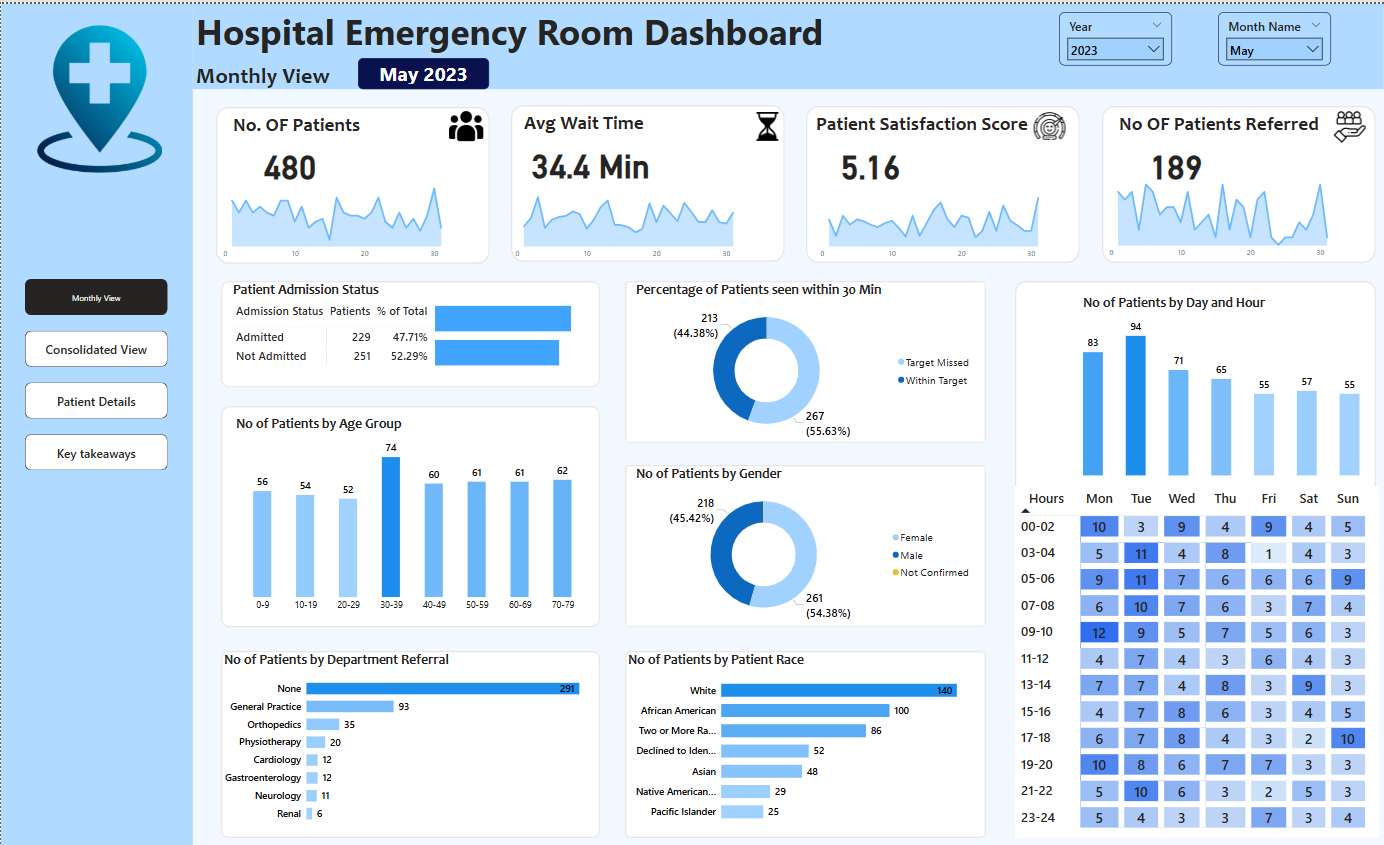

The dashboard page shown, as its layout file describes it:
{"tool":"powerbi","page":{"name":"Monthly View","canvas":[2300,1400],"ordinal":0},"visuals":[{"type":"shape","box":[0,0,319.2,1400],"z":0},{"type":"shape","box":[319.8,0,1980.2,141.6],"z":1000},{"type":"textbox","box":[319.8,0,1092.3,89.1],"z":2000},{"type":"shape","box":[357.1,171.4,455,260.7],"z":3000},{"type":"textbox","box":[319.8,89.1,255.2,69.9],"z":4000},{"type":"card","fields":{"Values":["Hospital ER_Data.No of Patients"]},"box":[385.7,212.5,189.3,103.6],"z":5000},{"type":"slicer","fields":{"Values":["Date Table.Year"]},"box":[1758.9,12.5,187.5,89.3],"z":6000},{"type":"slicer","fields":{"Values":["Date Table.Month Name"]},"box":[2023.2,12.5,187.5,89.3],"z":7000},{"type":"textbox","box":[380.4,176.8,235.7,51.8],"z":8000},{"type":"areaChart","fields":{"Category":["Date Table.Date.Variation.Date Hierarchy.Day"],"Y":["Hospital ER_Data.No of Patients"]},"box":[357.1,287.5,435.7,144.6],"z":9000},{"type":"card","fields":{"Values":["Min(Date Table.Month & Year)"]},"box":[592.9,89.3,217.9,51.8],"z":10000},{"type":"shape","box":[848.1,167.1,455,260.7],"z":11000},{"type":"card","fields":{"Values":["Hospital ER_Data.Avg Wait Time"]},"box":[871.4,225,217.9,76.8],"z":12000},{"type":"textbox","box":[865.4,172.5,235.7,51.8],"z":13000},{"type":"shape","box":[366.1,460.7,630,177],"z":14000},{"type":"shape","box":[1339,170,455,260.7],"z":15000},{"type":"card","fields":{"Values":["Hospital ER_Data.Satisfaction Score"]},"box":[1350,212.5,189.3,103.6],"z":16000},{"type":"textbox","box":[1350,175,408.9,51.8],"z":17000},{"type":"shape","box":[1830,169.3,455,260.7],"z":18000},{"type":"card","fields":{"Values":["Hospital ER_Data.No of Patients Referred"]},"box":[1858.9,212.5,189.3,103.6],"z":19000},{"type":"textbox","box":[1853.6,175,389.3,51.8],"z":20000},{"type":"areaChart","fields":{"Category":["Date Table.Date.Variation.Date Hierarchy.Day"],"Y":["Hospital ER_Data.No of Patients Referred"]},"box":[1830.4,285.7,435.7,144.6],"z":21000},{"type":"areaChart","fields":{"Category":["Date Table.Date.Variation.Date Hierarchy.Day"],"Y":["Hospital ER_Data.Satisfaction Score"]},"box":[1350,287.5,435.7,144.6],"z":22000},{"type":"areaChart","fields":{"Category":["Date Table.Date.Variation.Date Hierarchy.Day"],"Y":["Avg(Hospital ER_Data.Patient Waittime)"]},"box":[842.9,287.5,435.7,144.6],"z":23000},{"type":"pivotTable","title":"Patient Admission Status","fields":{"Rows":["Hospital ER_Data.Admission Status"],"Values":["Hospital ER_Data.No of Patients1","Hospital ER_Data.No of Patients"]},"box":[380.8,460.6,615.2,177.9],"z":24000},{"type":"barChart","fields":{"Category":["Hospital ER_Data.Admission Status"],"Y":["Hospital ER_Data.No of Patients"]},"box":[716.1,460.7,280.4,176.8],"z":25000},{"type":"shape","box":[366,668,630,368],"z":26000},{"type":"shape","box":[365.8,1075.8,630.2,310.9],"z":27000},{"type":"clusteredColumnChart","fields":{"Y":["Hospital ER_Data.No of Patients"],"Category":["Hospital ER_Data.Age Group"]},"box":[385,683.3,598.3,336.7],"z":28000},{"type":"clusteredBarChart","fields":{"Category":["Hospital ER_Data.Department Referral"],"Y":["Hospital ER_Data.No of Patients"]},"box":[365.8,1075.8,631.8,297.6],"z":29000},{"type":"shape","box":[1037.5,460.6,600.2,269.4],"z":30000},{"type":"donutChart","title":"Percentage of Patients seen within 30 Min","fields":{"Category":["Hospital ER_Data.Wait Time Status"],"Y":["Hospital ER_Data.No of Patients"]},"box":[1050.8,460.6,573.6,269.4],"z":31000},{"type":"shape","box":[1037.5,766.5,600.2,269.4],"z":32000},{"type":"donutChart","title":"No of Patients by Gender","fields":{"Category":["Hospital ER_Data.Patient Gender"],"Y":["Hospital ER_Data.No of Patients"]},"box":[1050.8,766.5,573.6,269.4],"z":33000},{"type":"shape","box":[1037.5,1075.8,600.2,310.9],"z":34000},{"type":"clusteredBarChart","fields":{"Y":["Hospital ER_Data.No of Patients"],"Category":["Hospital ER_Data.Patient Race"]},"box":[1037.5,1075.8,586.9,297.6],"z":35000},{"type":"shape","box":[1686,460.6,600.2,926.1],"z":36000},{"type":"pivotTable","fields":{"Rows":["Hospital ER_Data.Waittime Interval"],"Columns":["Date Table.Day Name"],"Values":["Hospital ER_Data.No of Patients"]},"box":[1686,801.4,605.2,585.3],"z":37000},{"type":"columnChart","title":"No of Patients by Day and Hour","fields":{"Category":["Date Table.Day Name"],"Y":["Hospital ER_Data.No of Patients"]},"box":[1794.1,482.2,472.2,307.6],"z":38000},{"type":"image","box":[33.3,29.9,261,256.1],"z":39000},{"type":"image","box":[734.9,169.6,76.5,66.5],"z":40000},{"type":"image","box":[1245.4,169.6,58.2,68.2],"z":41000},{"type":"image","box":[1701,171.3,84.8,63.2],"z":42000},{"type":"image","box":[2208.1,172.9,68.2,63.2],"z":43000},{"type":"pageNavigator","box":[39.9,457.2,237.8,320.9],"z":44000}]}

Visuals, with their boxes in screenshot pixels (x1, y1, x2, y2), scaled from the page's 2300x1400 canvas onto the 1384x845 screenshot:
shape: 0,0,192,844
shape: 192,0,1383,85
textbox: 192,0,850,54
shape: 215,103,489,261
textbox: 192,54,346,96
card - Hospital ER_Data.No of Patients: 232,128,346,191
slicer - Date Table.Year: 1058,8,1171,61
slicer - Date Table.Month Name: 1217,8,1330,61
textbox: 229,107,371,138
areaChart - Date Table.Date.Variation.Date Hierarchy.Day x Hospital ER_Data.No of Patients: 215,174,477,261
card - Min(Date Table.Month & Year): 357,54,488,85
shape: 510,101,784,258
card - Hospital ER_Data.Avg Wait Time: 524,136,655,182
textbox: 521,104,663,135
shape: 220,278,599,385
shape: 806,103,1080,260
card - Hospital ER_Data.Satisfaction Score: 812,128,926,191
textbox: 812,106,1058,137
shape: 1101,102,1375,260
card - Hospital ER_Data.No of Patients Referred: 1119,128,1232,191
textbox: 1115,106,1350,137
areaChart - Date Table.Date.Variation.Date Hierarchy.Day x Hospital ER_Data.No of Patients Referred: 1101,172,1364,260
areaChart - Date Table.Date.Variation.Date Hierarchy.Day x Hospital ER_Data.Satisfaction Score: 812,174,1075,261
areaChart - Date Table.Date.Variation.Date Hierarchy.Day x Avg(Hospital ER_Data.Patient Waittime): 507,174,769,261
"Patient Admission Status" pivotTable: 229,278,599,385
barChart - Hospital ER_Data.Admission Status x Hospital ER_Data.No of Patients: 431,278,600,385
shape: 220,403,599,625
shape: 220,649,599,837
clusteredColumnChart - Hospital ER_Data.No of Patients x Hospital ER_Data.Age Group: 232,412,592,616
clusteredBarChart - Hospital ER_Data.Department Referral x Hospital ER_Data.No of Patients: 220,649,600,829
shape: 624,278,985,441
"Percentage of Patients seen within 30 Min" donutChart: 632,278,977,441
shape: 624,463,985,625
"No of Patients by Gender" donutChart: 632,463,977,625
shape: 624,649,985,837
clusteredBarChart - Hospital ER_Data.No of Patients x Hospital ER_Data.Patient Race: 624,649,977,829
shape: 1015,278,1376,837
pivotTable - Hospital ER_Data.Waittime Interval x Date Table.Day Name: 1015,484,1379,837
"No of Patients by Day and Hour" columnChart: 1080,291,1364,477
image: 20,18,177,173
image: 442,102,488,143
image: 749,102,784,144
image: 1024,103,1075,142
image: 1329,104,1370,143
pageNavigator: 24,276,167,470
